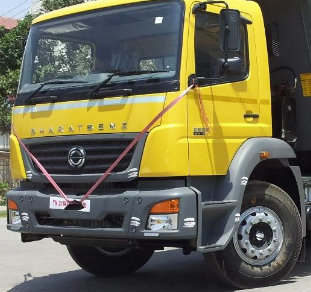truck: (3, 1, 307, 290)
